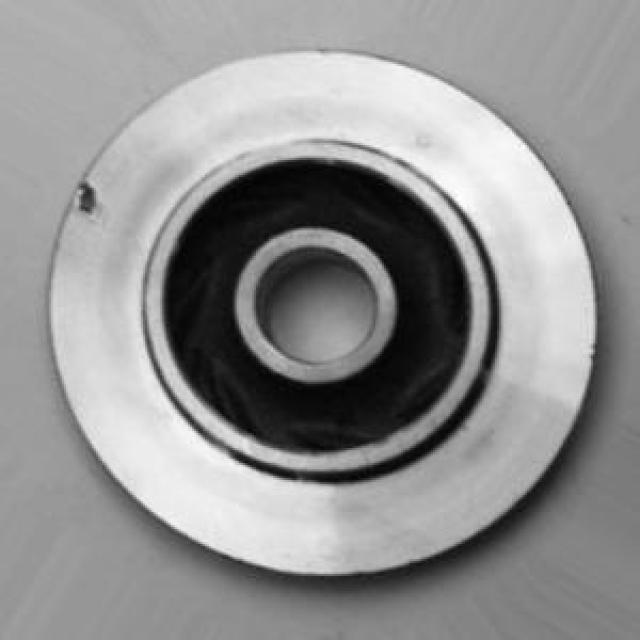Defect: (73, 174, 109, 220)
